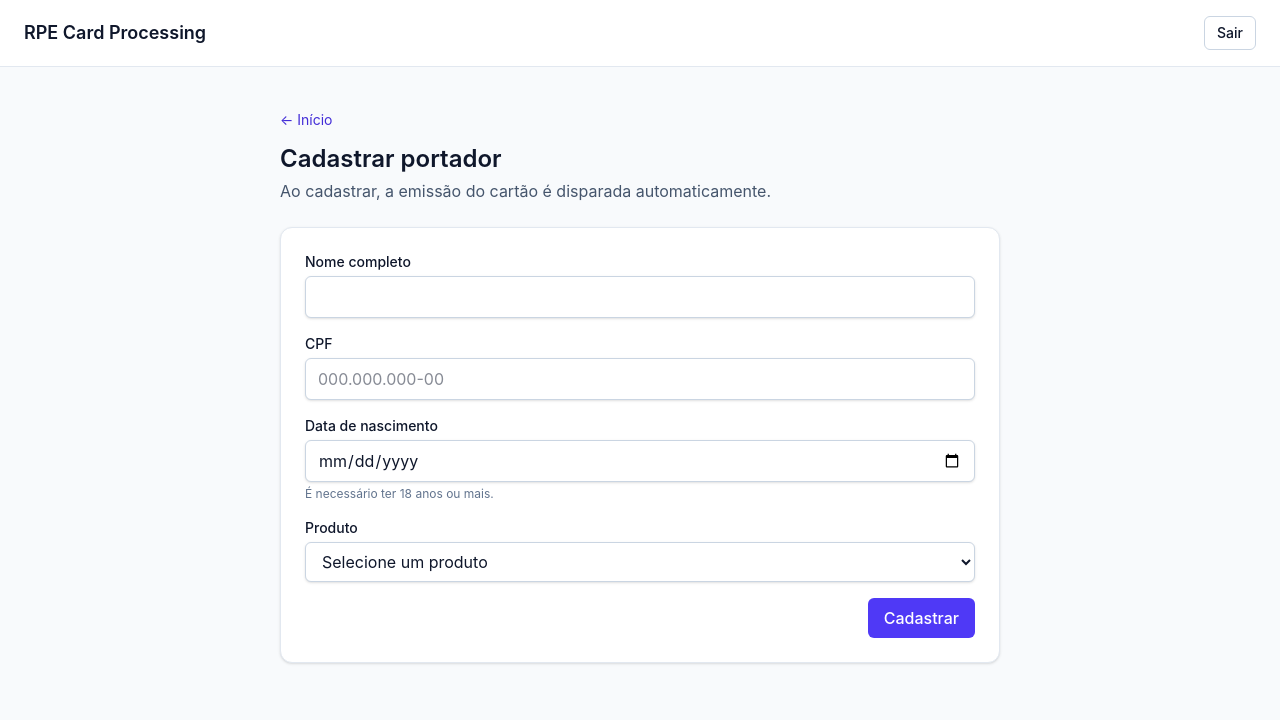
it: cadastro de portador: formulário › deveRejeitarCpfComDigitoVerificadorErrado
Expected: the dropdown labelled "Produto" is enabled, [305,542,975,582]
Type "Victor" into the field labelled "Nome completo" at (640, 297), box [305,276,975,318]
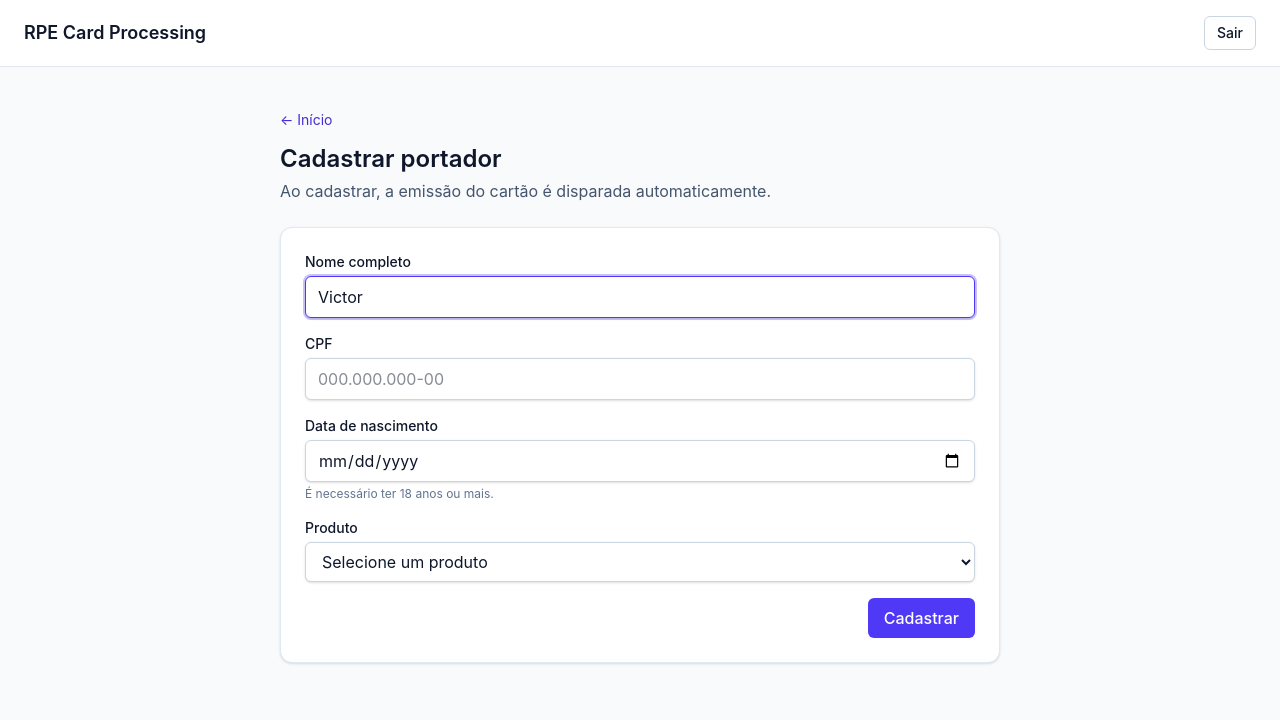
Type "52998224726" into the field labelled "CPF" at (640, 379), box [305,358,975,400]
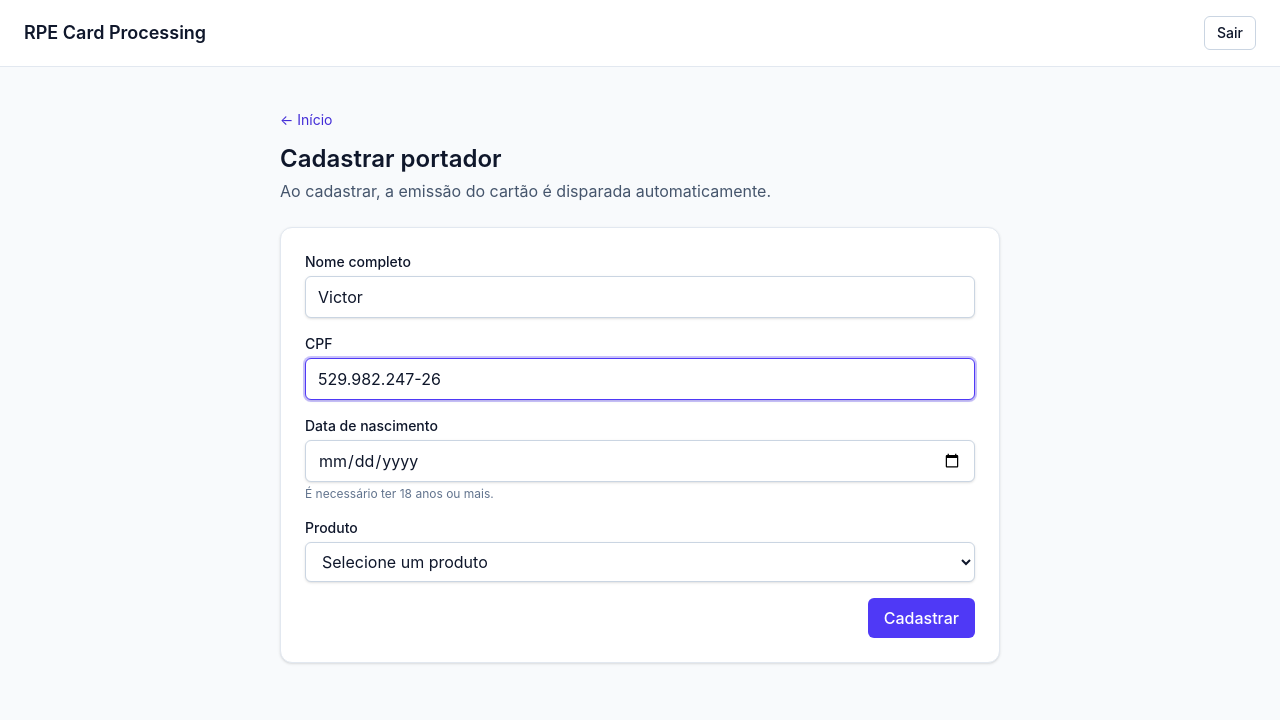
Type "1990-01-31" into the date field labelled "Data de nascimento" at (640, 461), box [305,440,975,482]
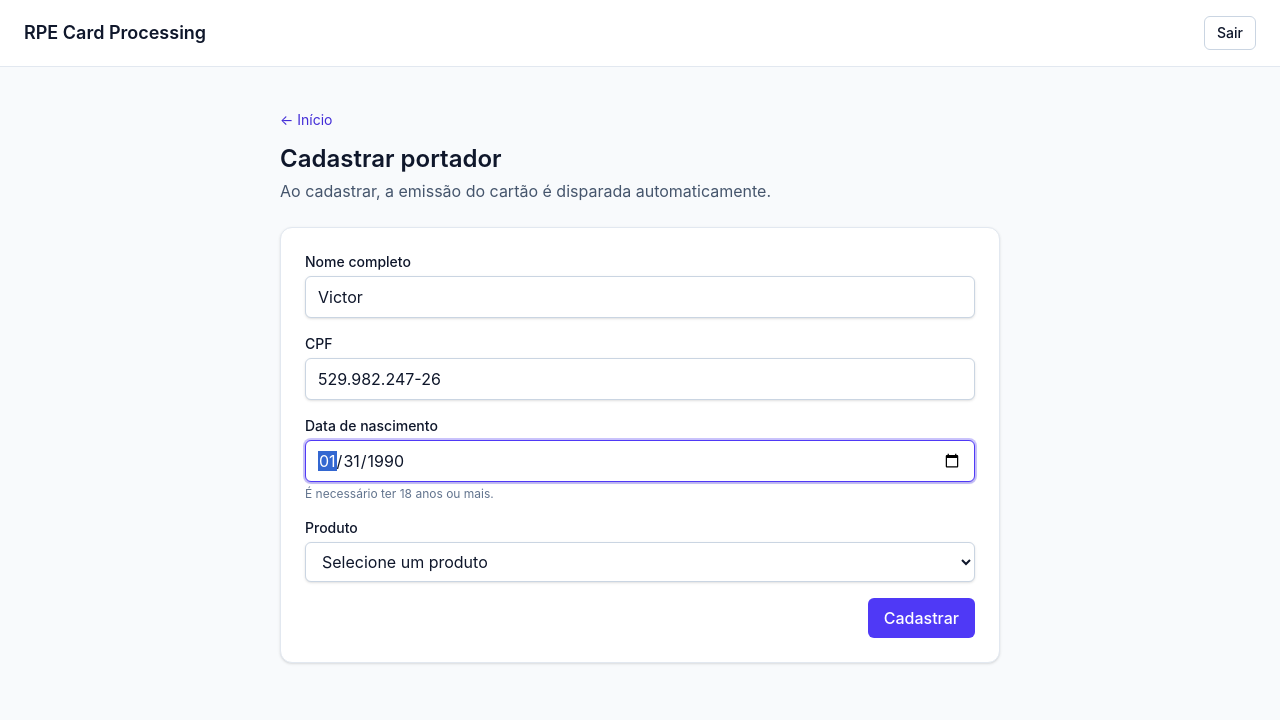
Select "Gold Teste — GOLD" in the dropdown labelled "Produto" at (640, 562), box [305,542,975,582]
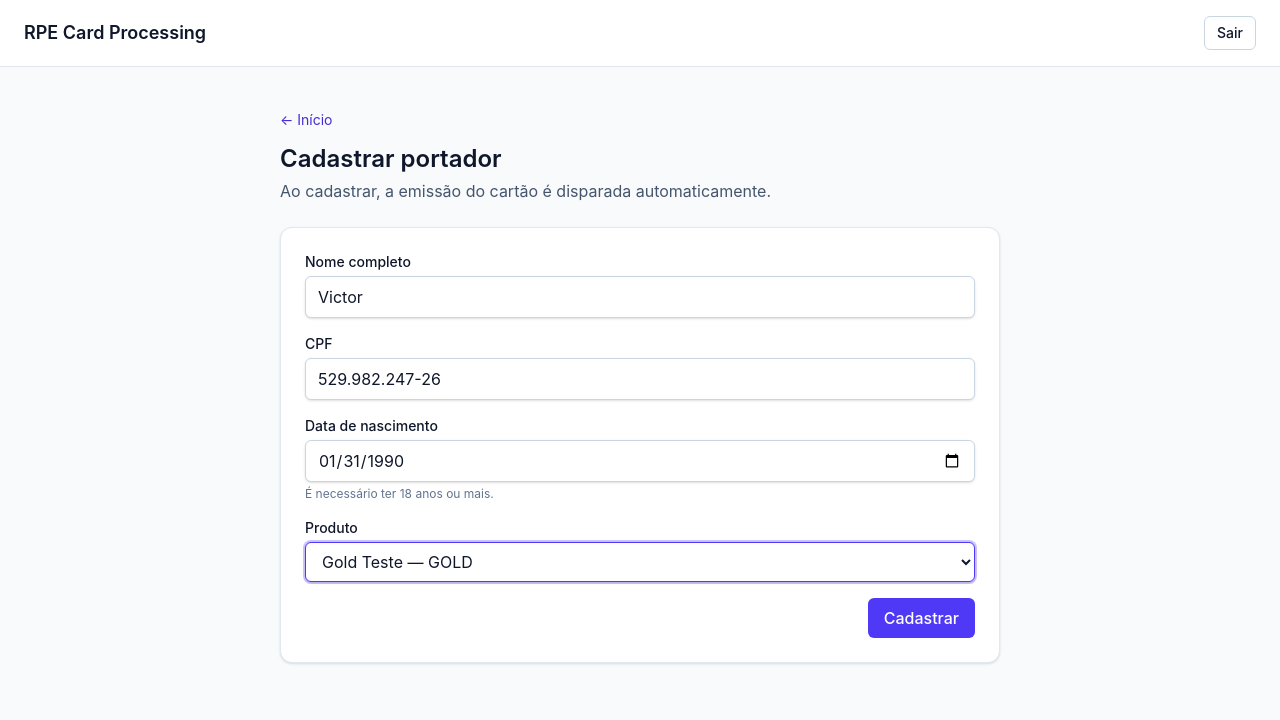
Click the button "Cadastrar" at (921, 618), box [868,598,975,638]
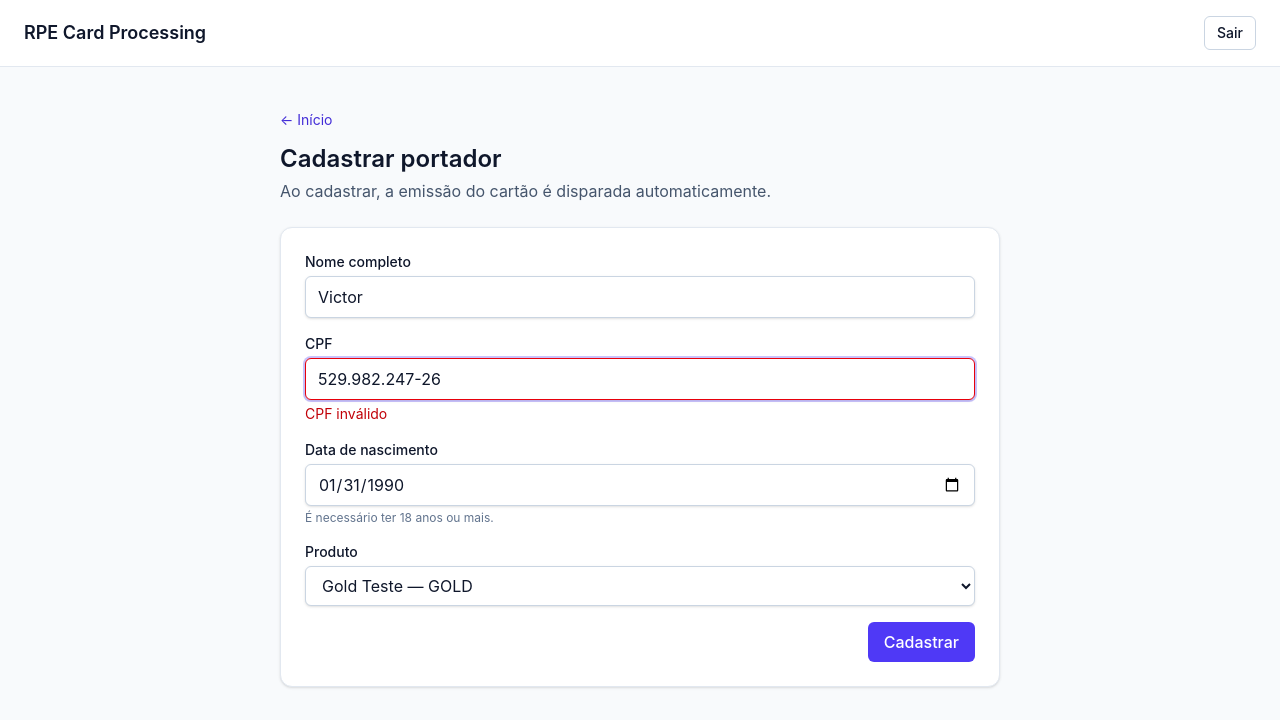
Expected: the text "CPF inválido" is shown, [305,405,387,422]
